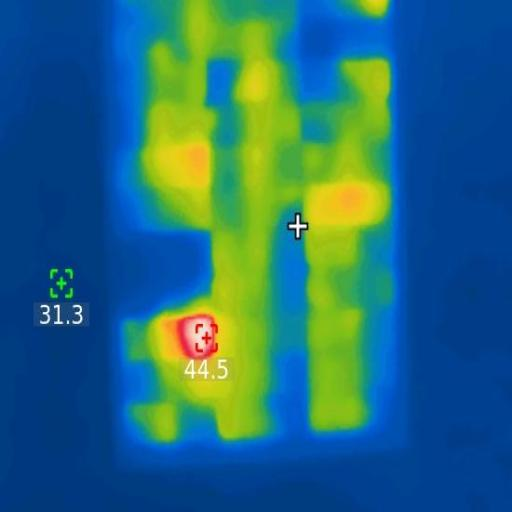hotspot: (180, 317, 216, 359)
